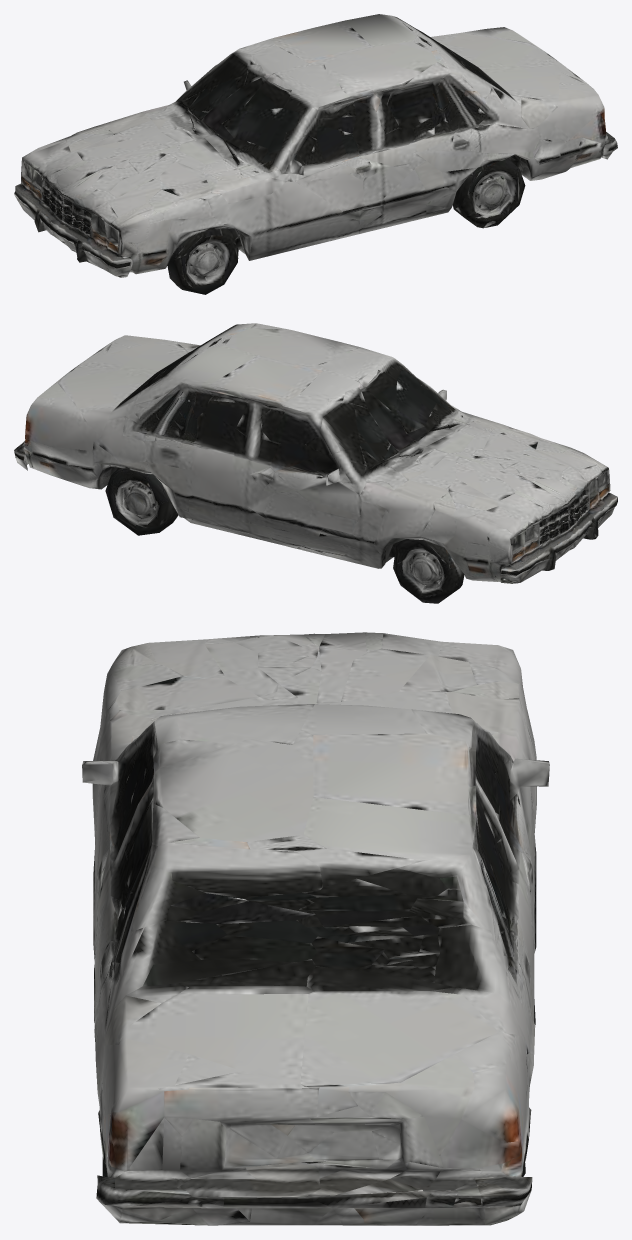
File: berline.glb
3 views of the same model, one above another, from view 1: azimuth 30°, elevation 25°; view 2: azimuth 150°, elevation 25°; view 3: azimuth 270°, elevation 25° (orthographic). The views are drawn at different scales.
Size of the model in its own units: 1.9 by 0.5674 by 0.7509.
Materials: 1 (1 with a texture image).
